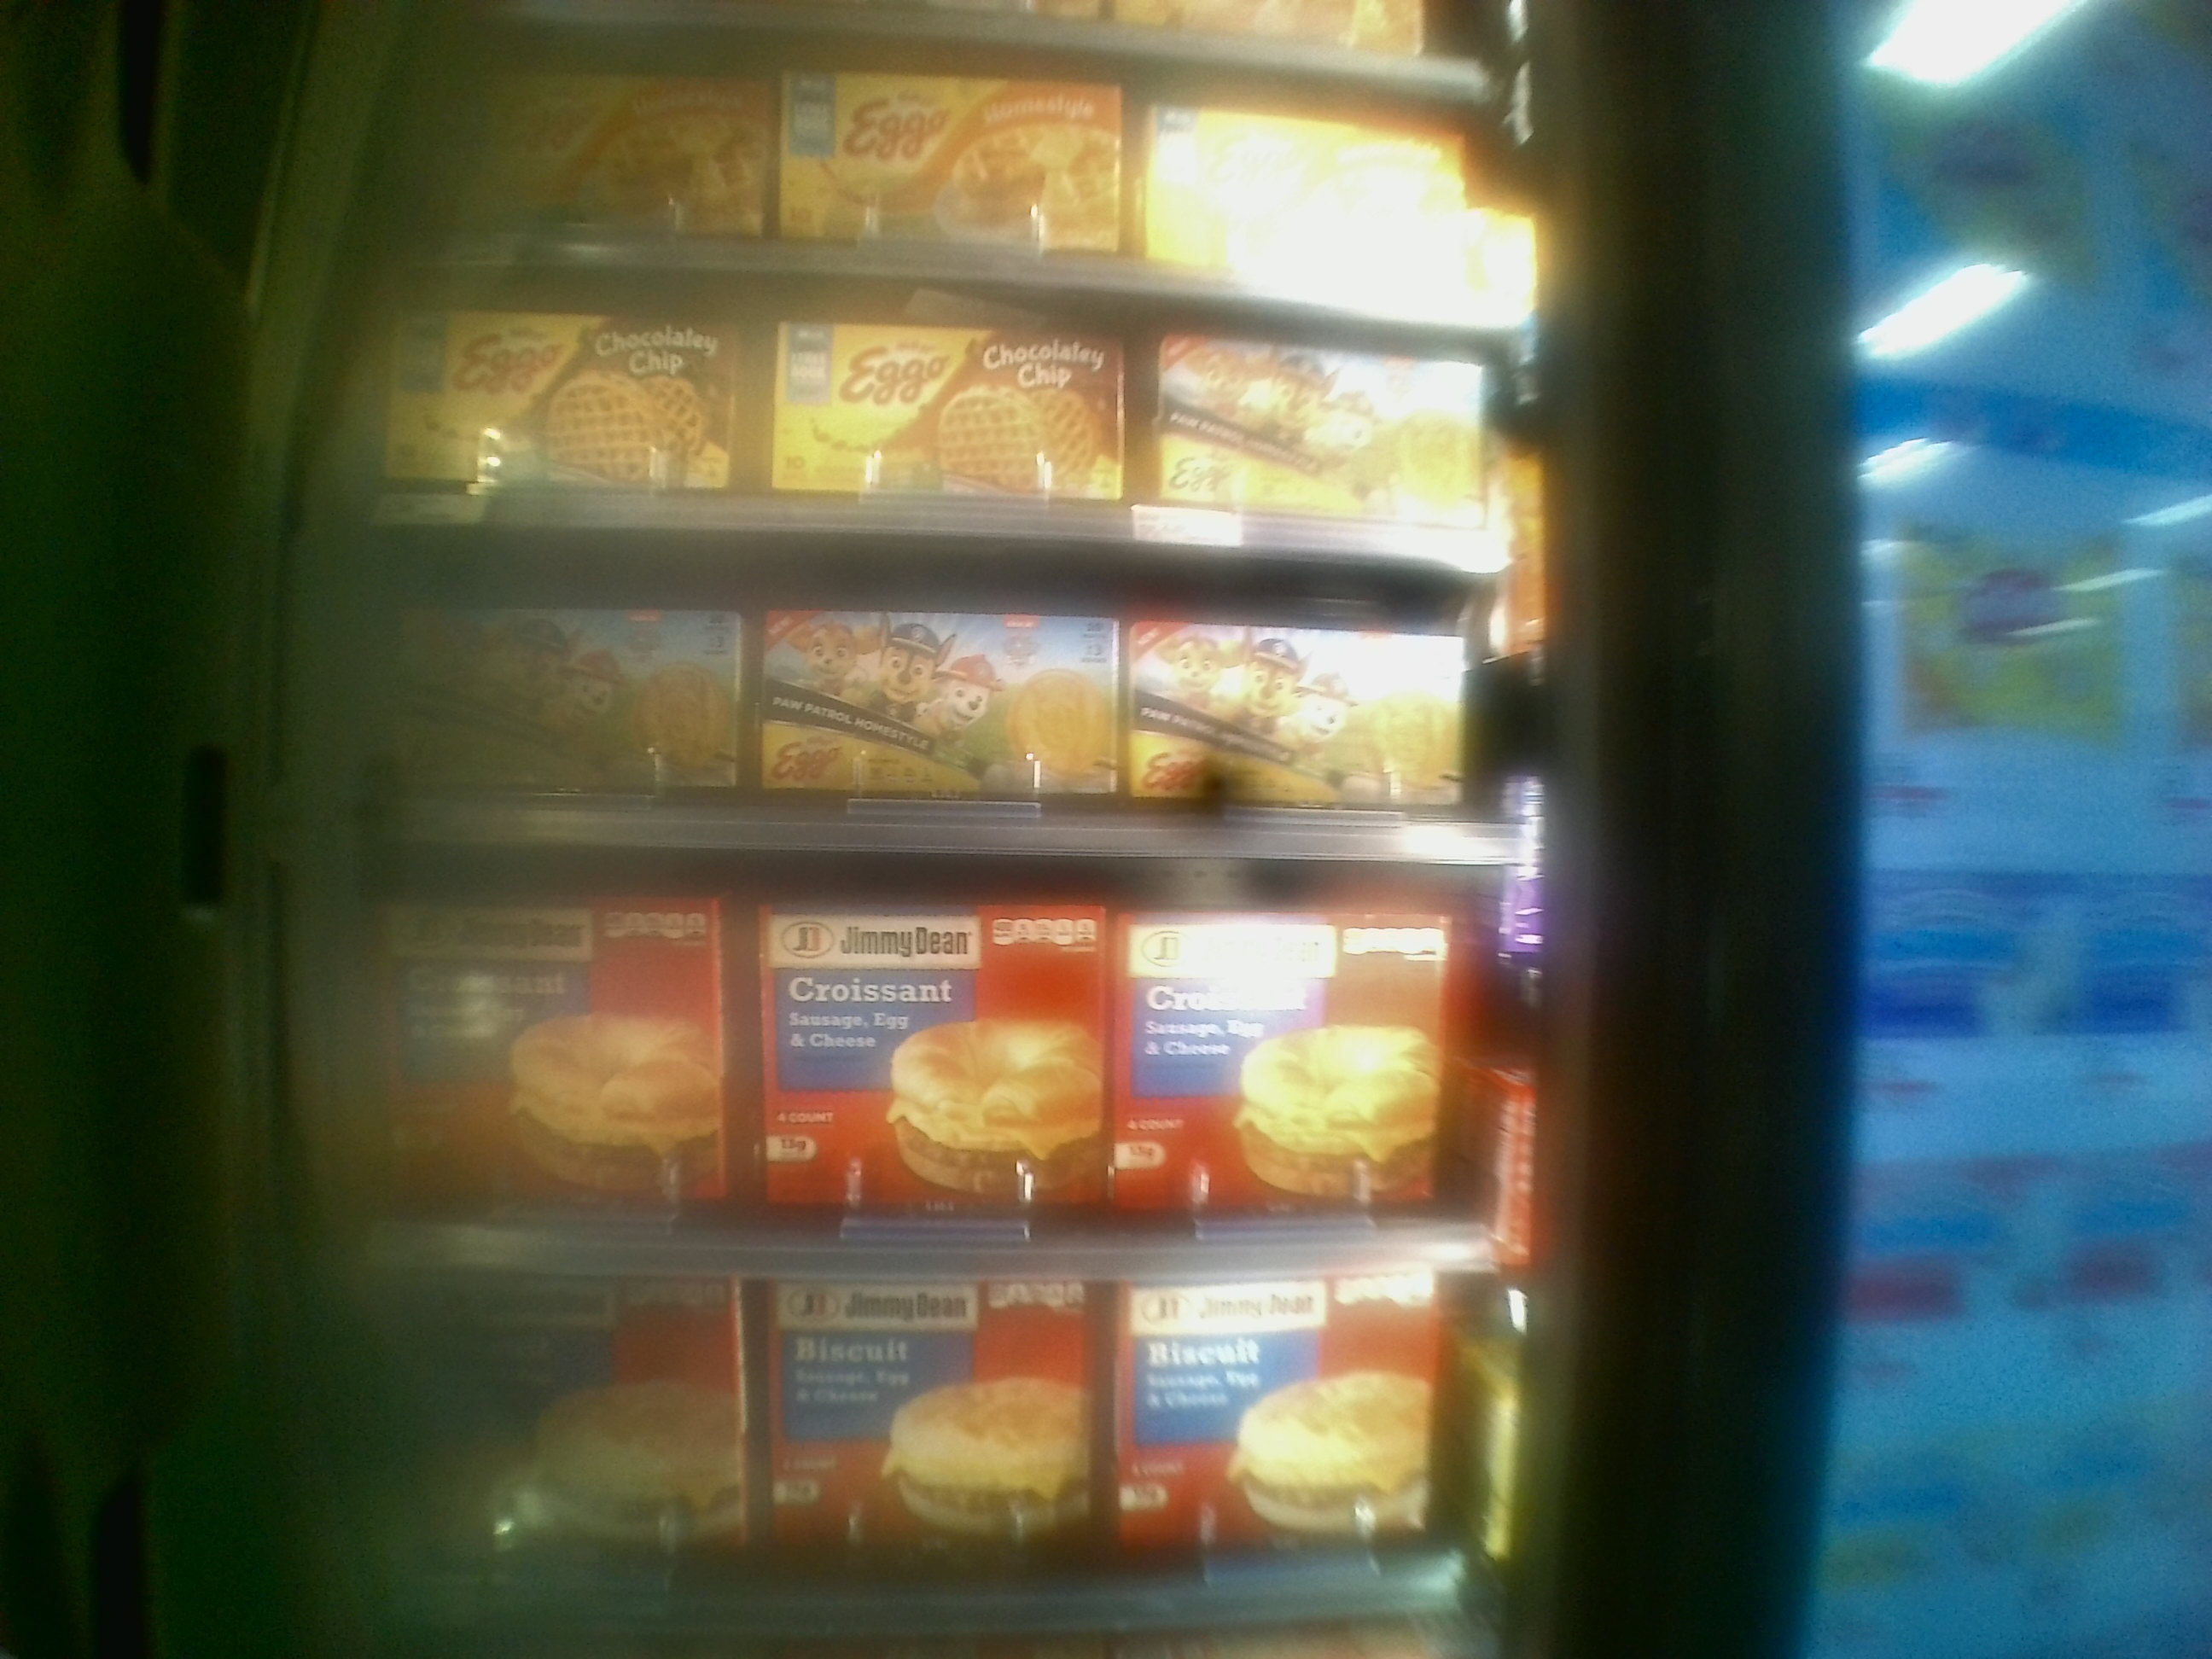shelf: (366, 854, 1514, 1263), (354, 532, 1559, 863), (374, 256, 1536, 547)
